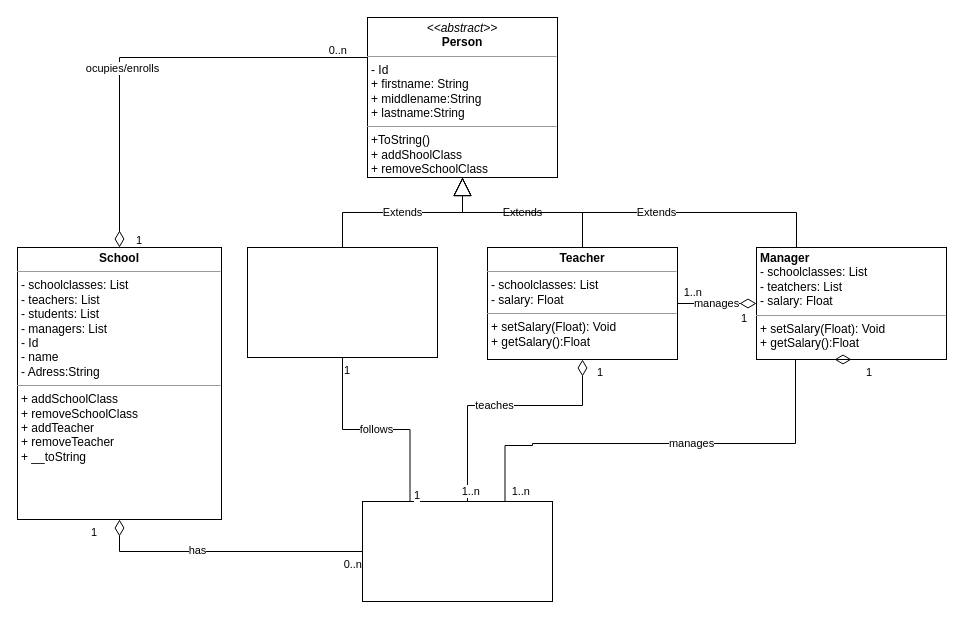
Image size: 964x619. Some labels were removed from this diagram. The centre of each missing label's shape, as x and y in pixels:
SchoolClass - Id: int - name: String: (457,551)
Student - SchoolClass: String: (342,302)
